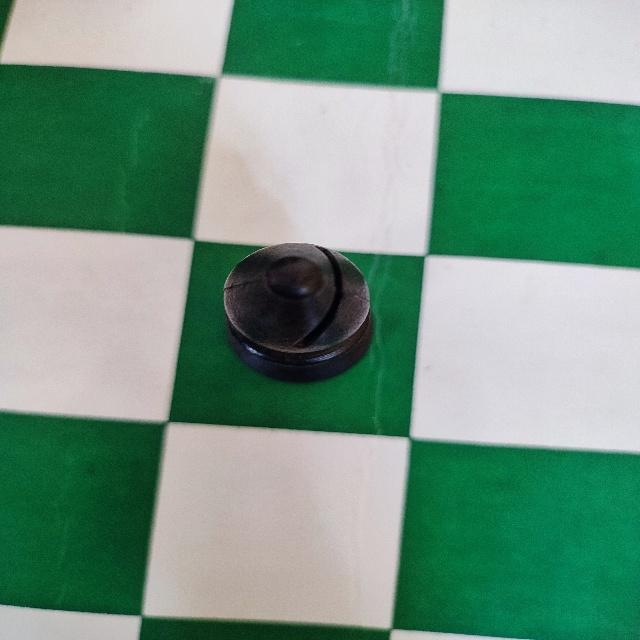Bishop: (218, 241, 380, 387)
